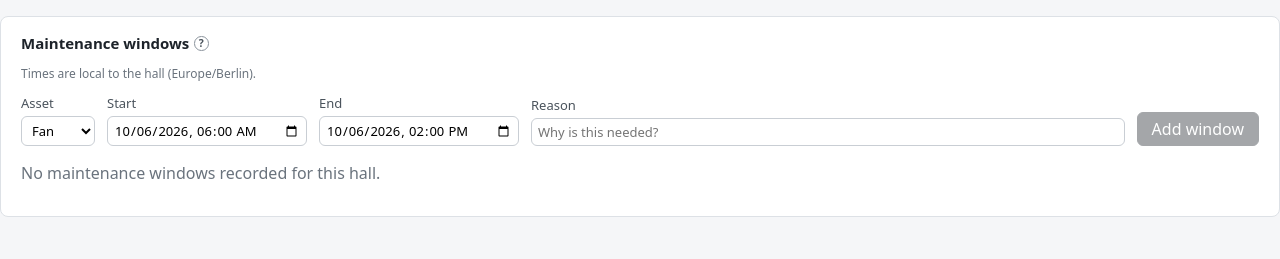
Test: a failed save keeps the reason and shows the error
Type "Belt change" into the field named "reason" at [828, 132], box [531, 118, 1125, 146]
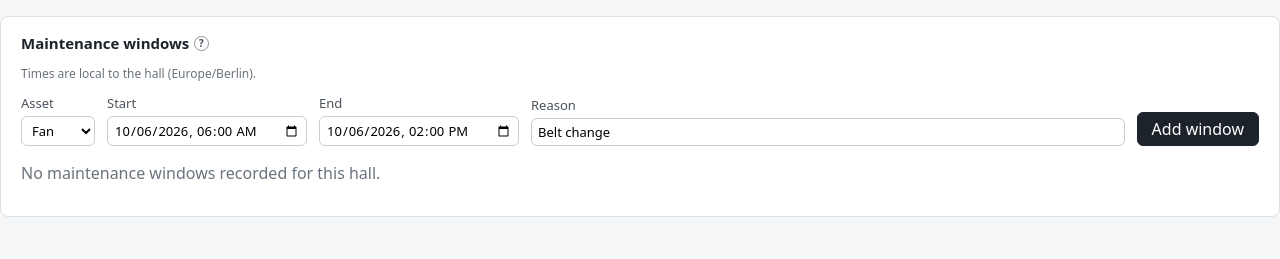
Submit the form, box [21, 94, 1259, 146]
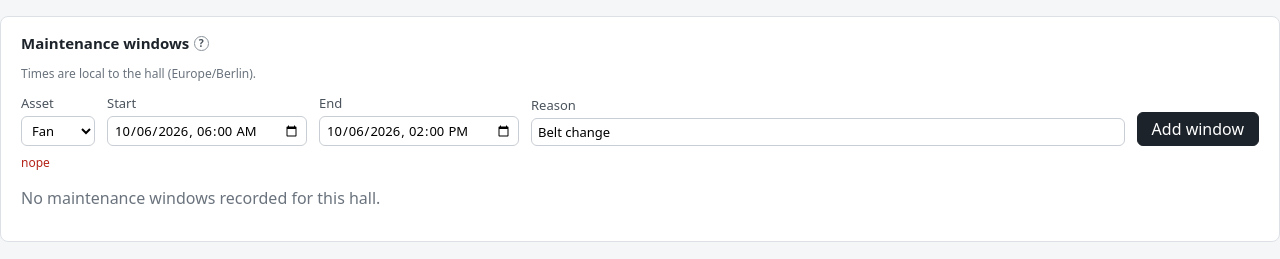
Expected: the message "nope" is shown, [21, 154, 50, 171]
